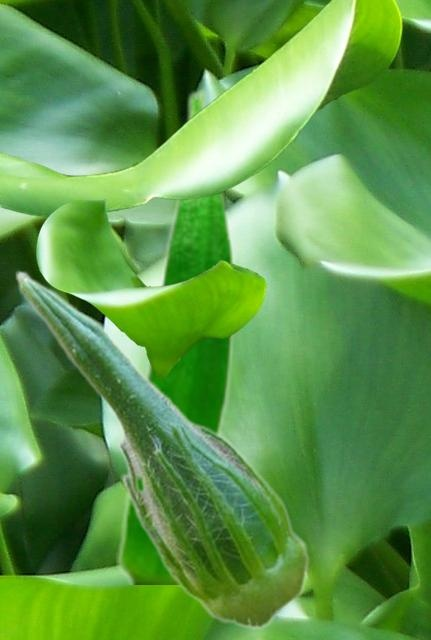okra: (14, 269, 309, 628), (116, 86, 236, 583)
